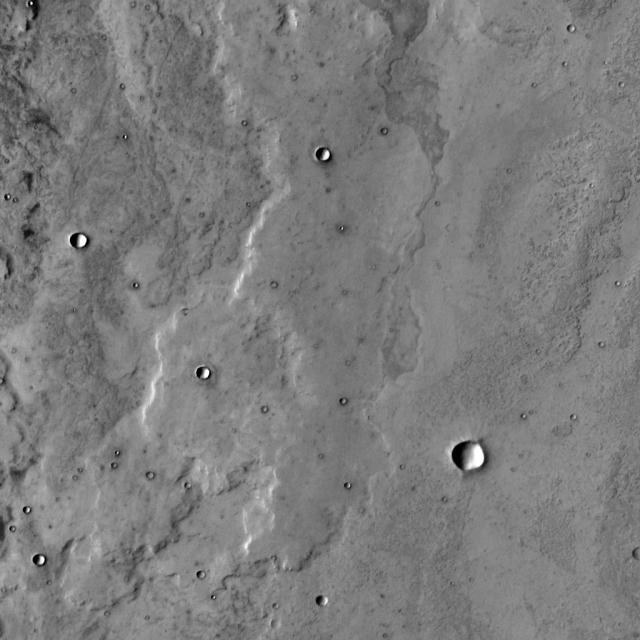crater: (458, 443, 488, 472), (74, 235, 90, 250), (319, 148, 335, 163), (319, 596, 333, 610), (200, 368, 213, 381), (37, 556, 49, 567), (275, 620, 286, 630), (571, 26, 580, 34), (347, 483, 355, 491), (20, 500, 27, 508), (185, 485, 193, 492), (198, 575, 206, 582), (378, 122, 385, 129), (337, 392, 344, 399), (144, 467, 150, 472)
